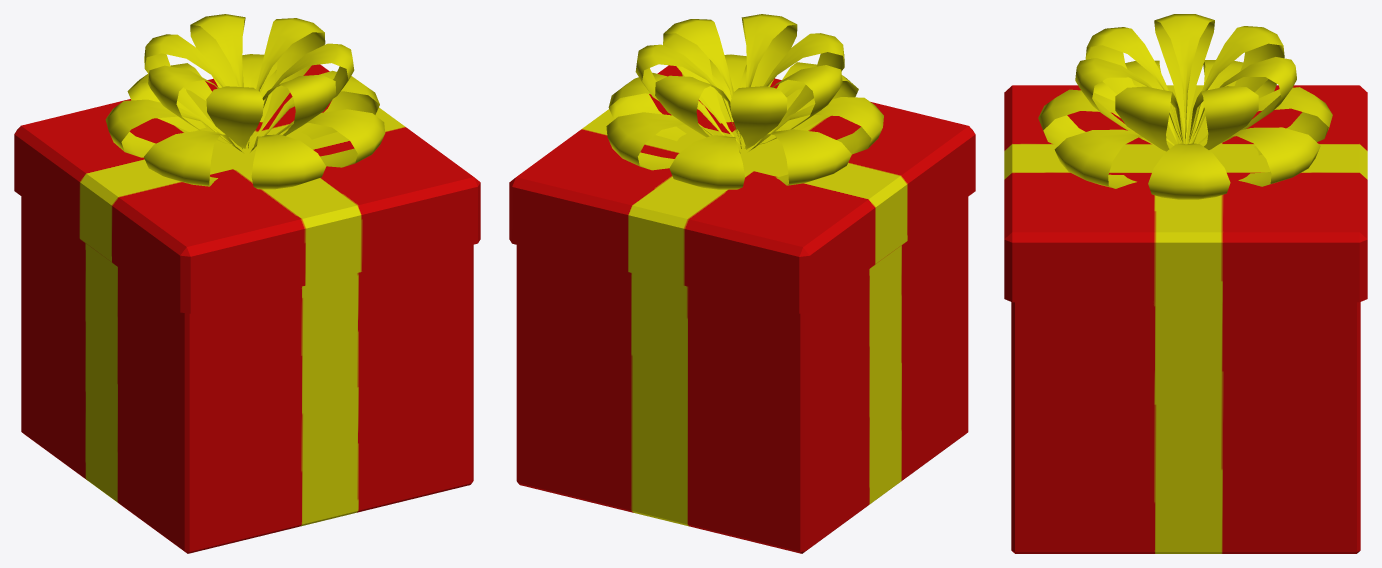
File: gift_one (1).fbx
The picture shows the model from 3 angles, left to right: view 1: azimuth 30°, elevation 25°; view 2: azimuth 150°, elevation 25°; view 3: azimuth 270°, elevation 25°; orthographic projection. The views are drawn at different scales.
Parts seen in each view (by area): view 1: gift_one; view 2: gift_one; view 3: gift_one.
Boxes of the visible parts, left/top/right/bottom form: gift_one: left=14, top=14, right=480, bottom=553; gift_one: left=509, top=14, right=975, bottom=553; gift_one: left=1004, top=14, right=1367, bottom=553.
Size of the model in its own units: 331 by 428 by 331.
1 material, 1 textured.
